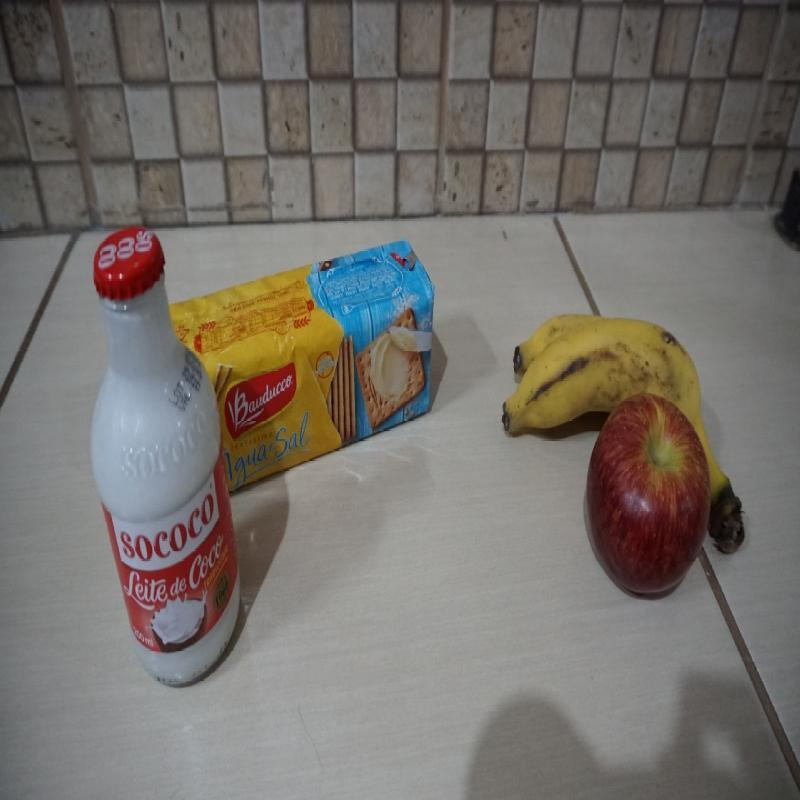Apple: (583, 394, 710, 600)
Banana: (499, 313, 701, 442)
Coconut Milk: (90, 223, 242, 688)
Cracker: (170, 237, 435, 497)
